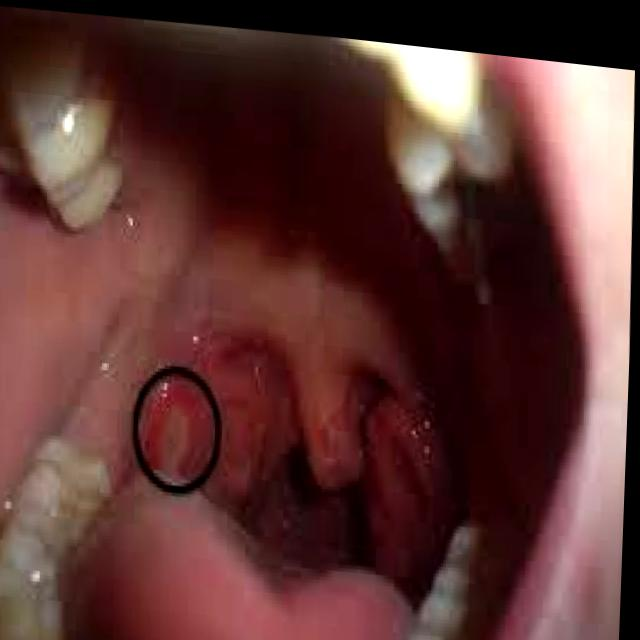ulcer: (131, 365, 220, 493), (133, 365, 220, 493)
